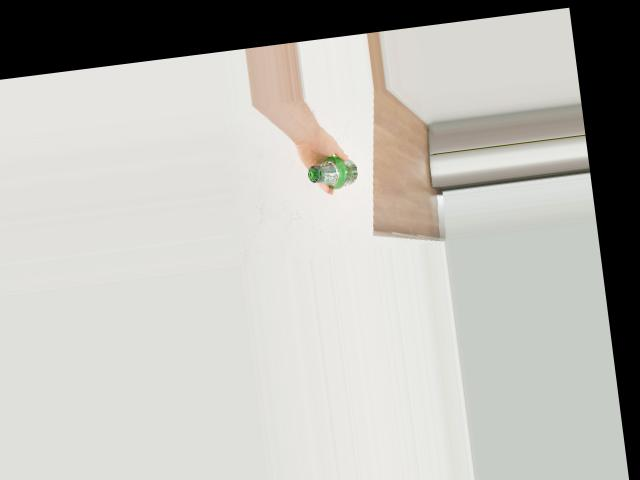beer: (306, 153, 359, 192)
